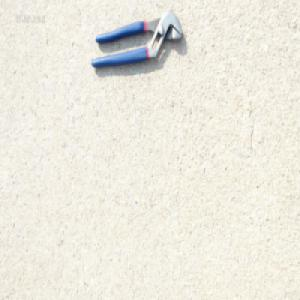Pliers: (90, 9, 184, 71)
